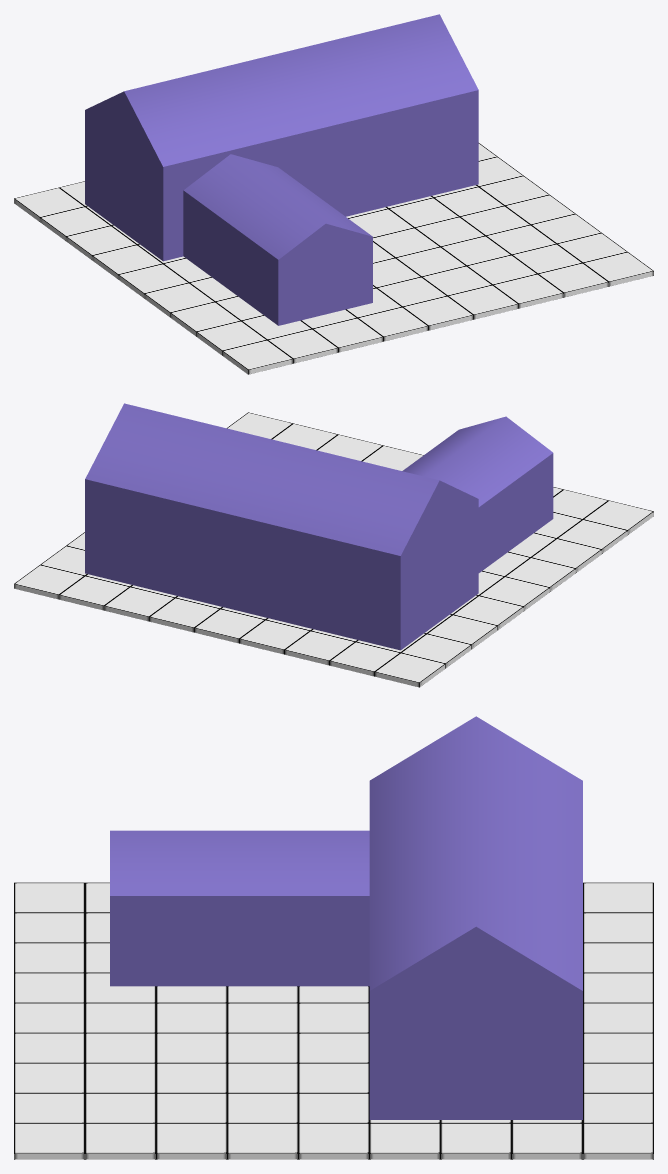
The model's file is XG_Medium-house.glb.
3 renders of one model, top to bottom at view 1: azimuth 30°, elevation 25°; view 2: azimuth 150°, elevation 25°; view 3: azimuth 270°, elevation 25°, orthographic. The views are drawn at different scales.
Parts seen in each view (by area): view 1: building_7m_3m_001, building_7m_3m_002, 1m_base_block_1527, 1m_base_block_1524, 1m_base_block_1521, 1m_base_block_1523, 1m_base_block_1526, 1m_base_block_1520, 1m_base_block_1522, 1m_base_block_1528, 1m_base_block_1525, 1m_base_block_1510 (+32 smaller); view 2: building_7m_3m_001, building_7m_3m_002, 1m_base_block_1536, 1m_base_block_1529, 1m_base_block_1535, 1m_base_block_1530, 1m_base_block_1533, 1m_base_block_1531, 1m_base_block_1532, 1m_base_block_1534, 1m_base_block_1537, 1m_base_block_1511 (+16 smaller); view 3: building_7m_3m_001, building_7m_3m_002, 1m_base_block_1513, 1m_base_block_1514, 1m_base_block_1515, 1m_base_block_1516, 1m_base_block_1517, 1m_base_block_1518, 1m_base_block_1519, 1m_base_block_1528, 1m_base_block_1537, 1m_base_block_1459 (+38 smaller).
Boxes of the visible parts, x1,y1,x2,y2 form: building_7m_3m_001: (85,14,478,261); building_7m_3m_002: (183,154,372,325); 1m_base_block_1527: (222,340,293,374); 1m_base_block_1524: (313,318,383,352); 1m_base_block_1521: (448,285,518,319); 1m_base_block_1523: (358,307,428,341); 1m_base_block_1526: (268,329,338,363); 1m_base_block_1520: (493,274,563,308); 1m_base_block_1522: (403,296,473,330); 1m_base_block_1528: (583,252,653,286); 1m_base_block_1525: (538,263,608,297); 1m_base_block_1510: (170,302,240,336); building_7m_3m_001: (85,403,478,650); building_7m_3m_002: (402,416,553,572); 1m_base_block_1536: (374,653,445,687); 1m_base_block_1529: (104,587,174,621); 1m_base_block_1535: (329,642,400,676); 1m_base_block_1530: (149,598,219,632); 1m_base_block_1533: (284,631,355,665); 1m_base_block_1531: (194,609,264,643); 1m_base_block_1532: (239,620,309,654); 1m_base_block_1534: (59,576,129,610); 1m_base_block_1537: (14,565,84,599); 1m_base_block_1511: (401,634,471,668); building_7m_3m_001: (369,716,582,1119); building_7m_3m_002: (110,830,369,986); 1m_base_block_1513: (440,1123,511,1159); 1m_base_block_1514: (369,1123,440,1159); 1m_base_block_1515: (298,1123,369,1159); 1m_base_block_1516: (227,1123,298,1159); 1m_base_block_1517: (156,1123,227,1159); 1m_base_block_1518: (511,1123,582,1159); 1m_base_block_1519: (85,1123,156,1159); 1m_base_block_1528: (14,1123,84,1159); 1m_base_block_1537: (583,1123,653,1159); 1m_base_block_1459: (298,1063,369,1093).
Size of the model in its own units: 9 by 3.15 by 9.
2 materials, 1 textured.
